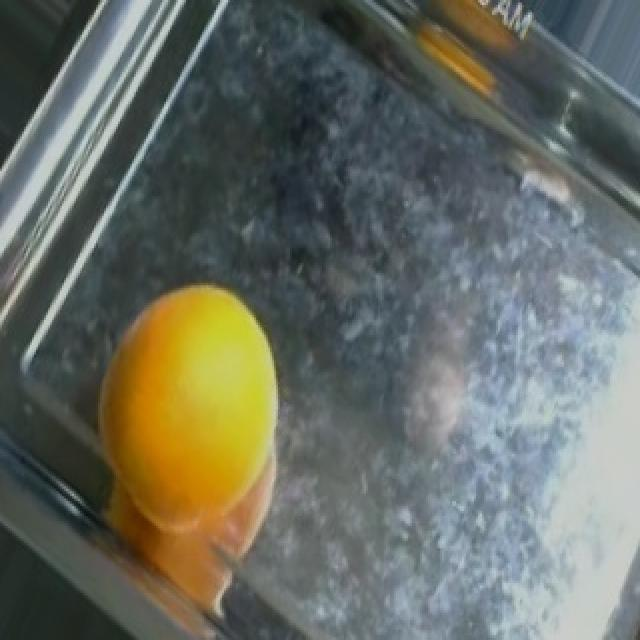Fruit: (68, 266, 300, 618)
